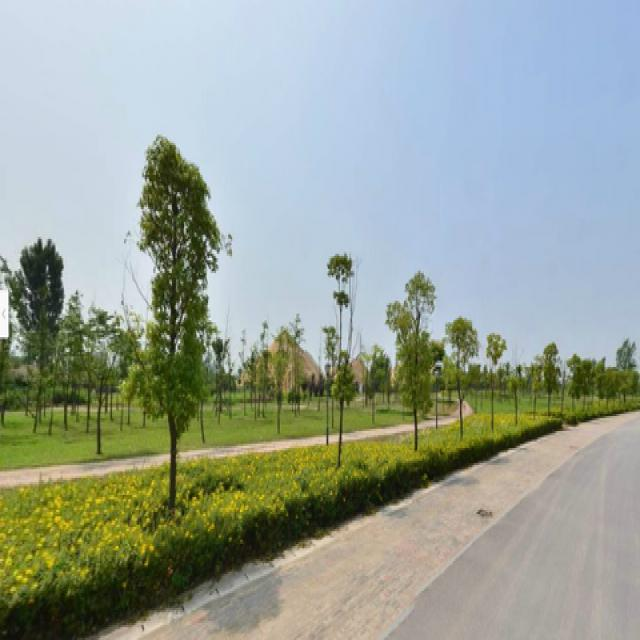cinn: (151, 160, 204, 495), (391, 264, 433, 446), (322, 254, 358, 446)
